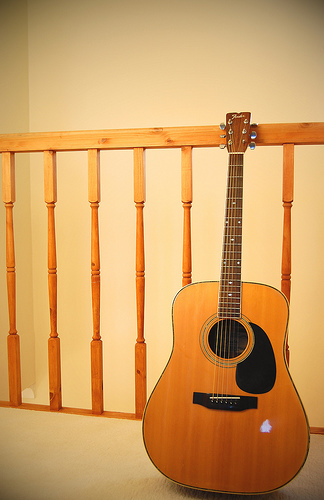guitar: (140, 109, 312, 494)
